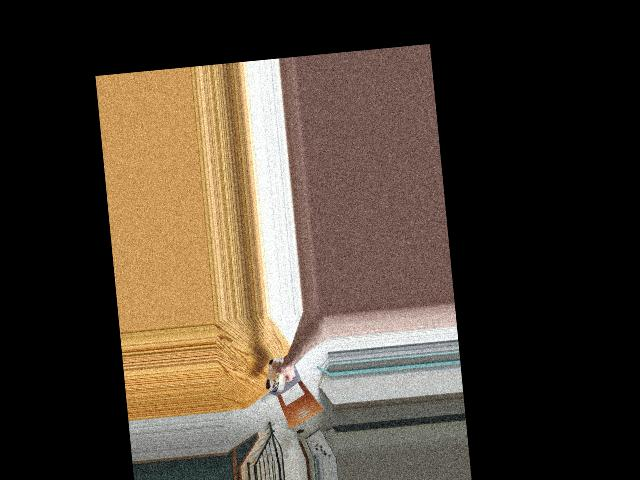cheese: (263, 356, 288, 391)
